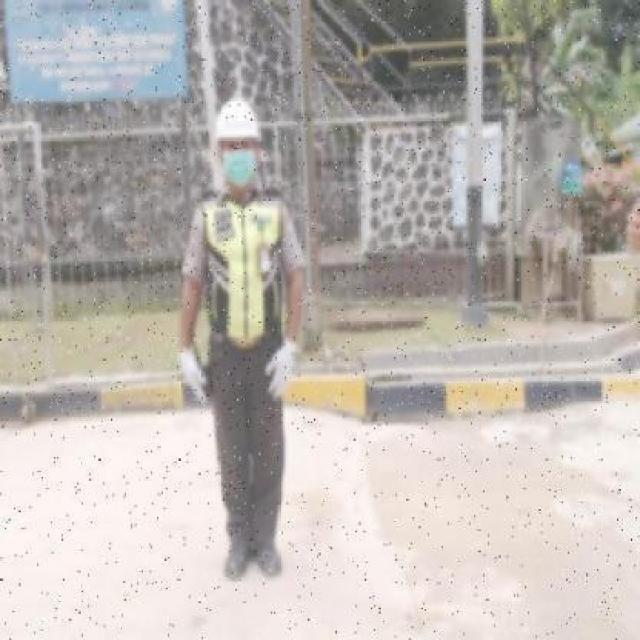Boots: (252, 536, 288, 581), (222, 542, 252, 583)
Gloves: (262, 333, 300, 402), (174, 344, 212, 413)
Helmet: (213, 95, 262, 142)
Mask: (221, 147, 257, 188)
